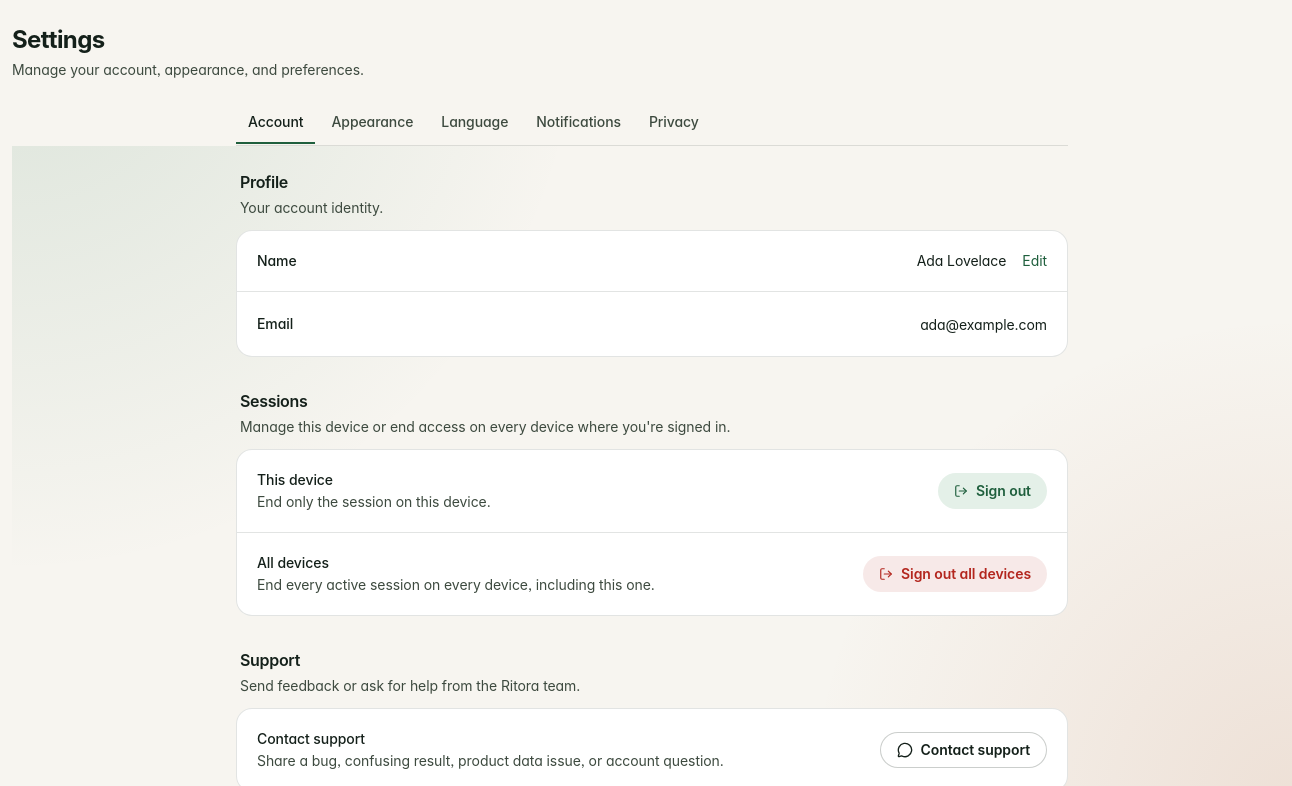
Test: SettingsPage › edits and saves the user name
The width and height of the screenshot is (1292, 786).
Click the button "Edit" at point(1035, 261), box [1022, 251, 1047, 271]
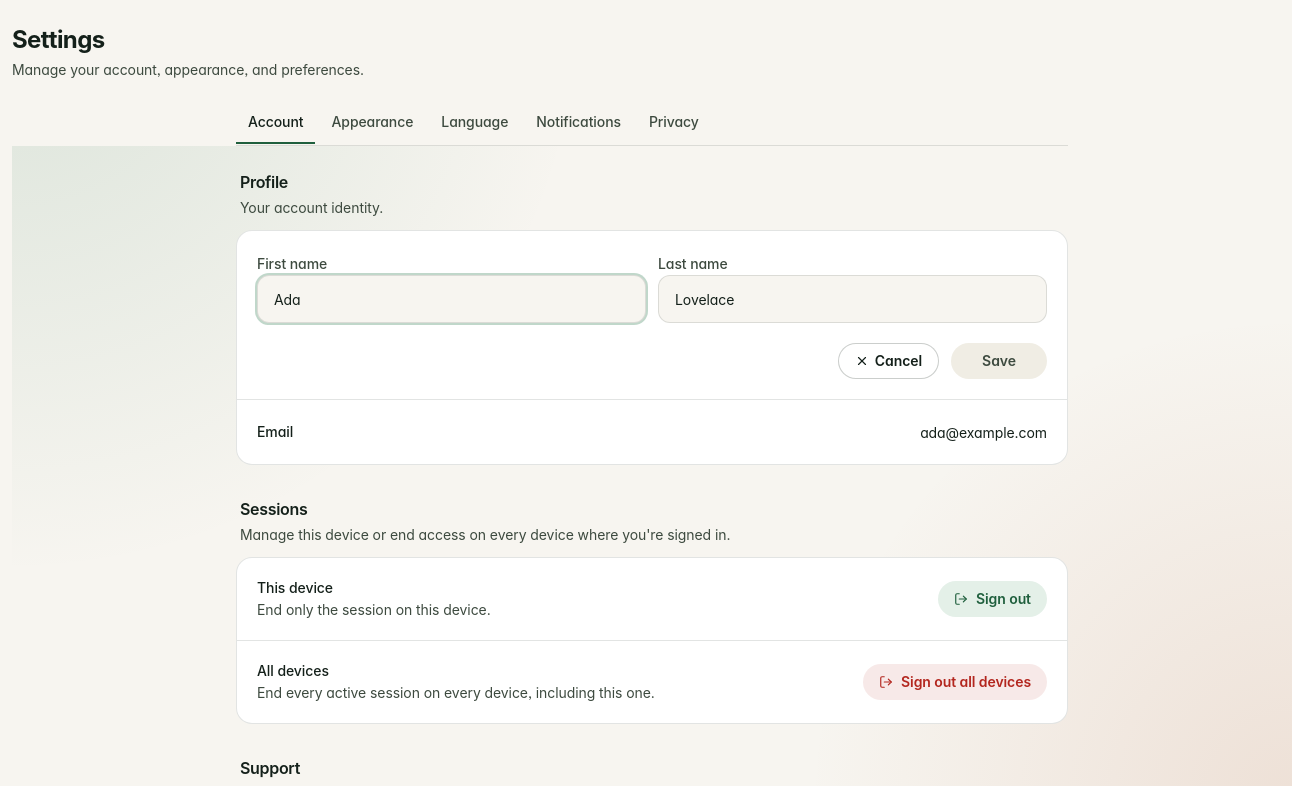
Replace the text in the field labelled "First name" with "  Ada  " at point(452, 299), box [257, 275, 646, 323]
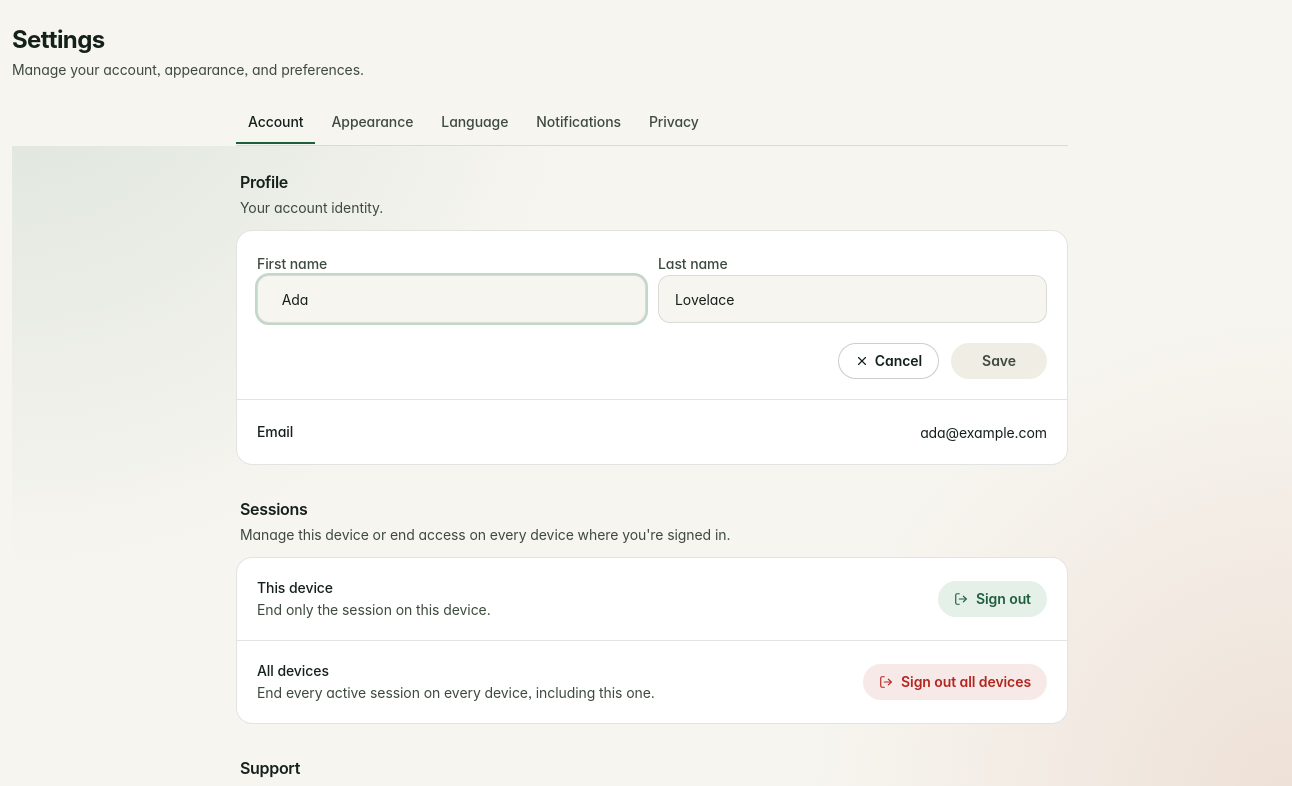
Replace the text in the field labelled "Last name" with "  Byron  " at point(852, 299), box [658, 275, 1047, 323]
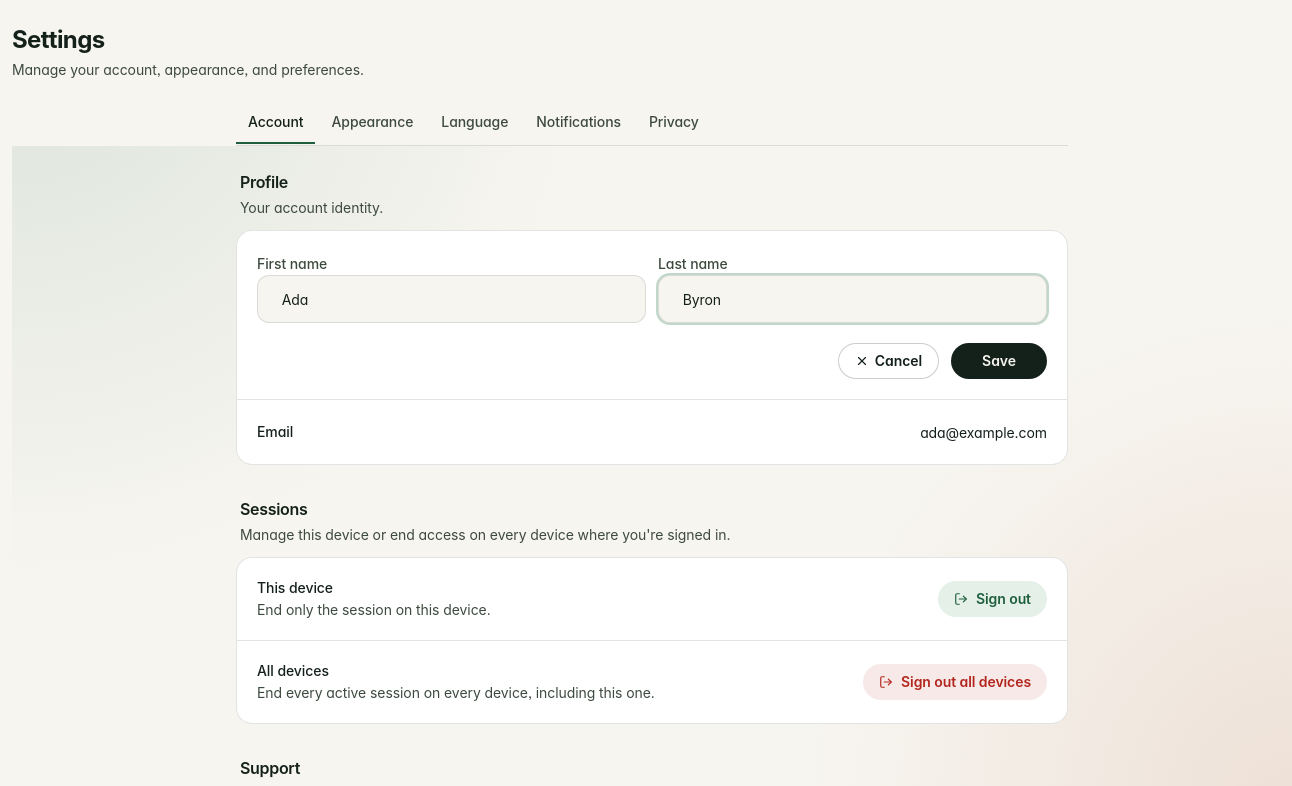
Click the button "Save" at point(999, 361), box [951, 343, 1047, 379]
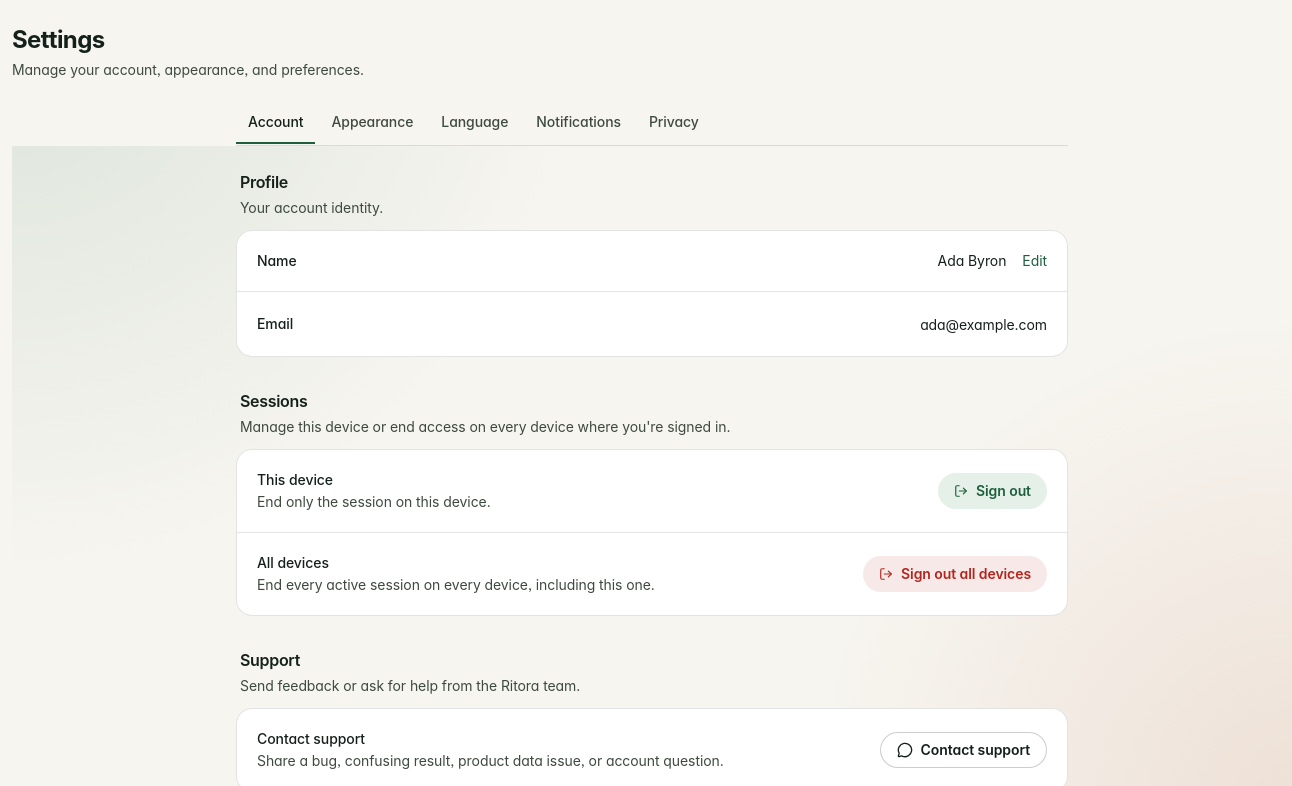
Check: the text "Ada Byron" is shown, box [938, 251, 1006, 271]
